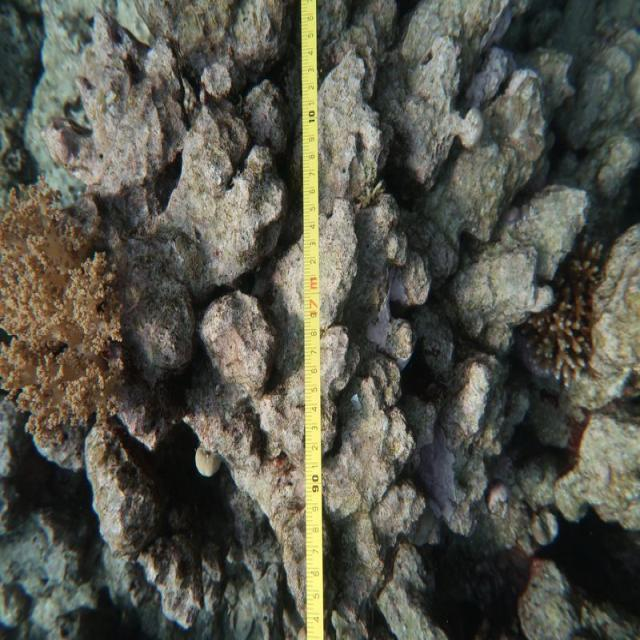Healthy Coral: (0, 177, 137, 442), (530, 251, 604, 392)
